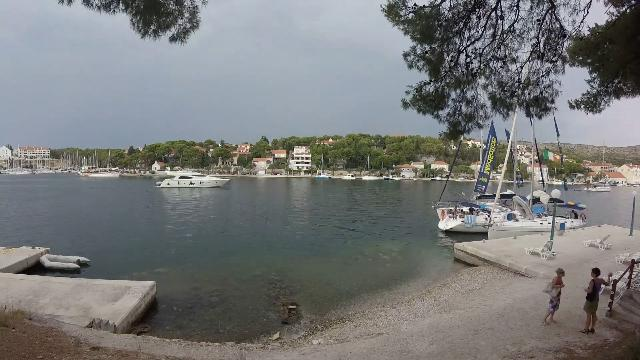ferry: (152, 166, 234, 194)
